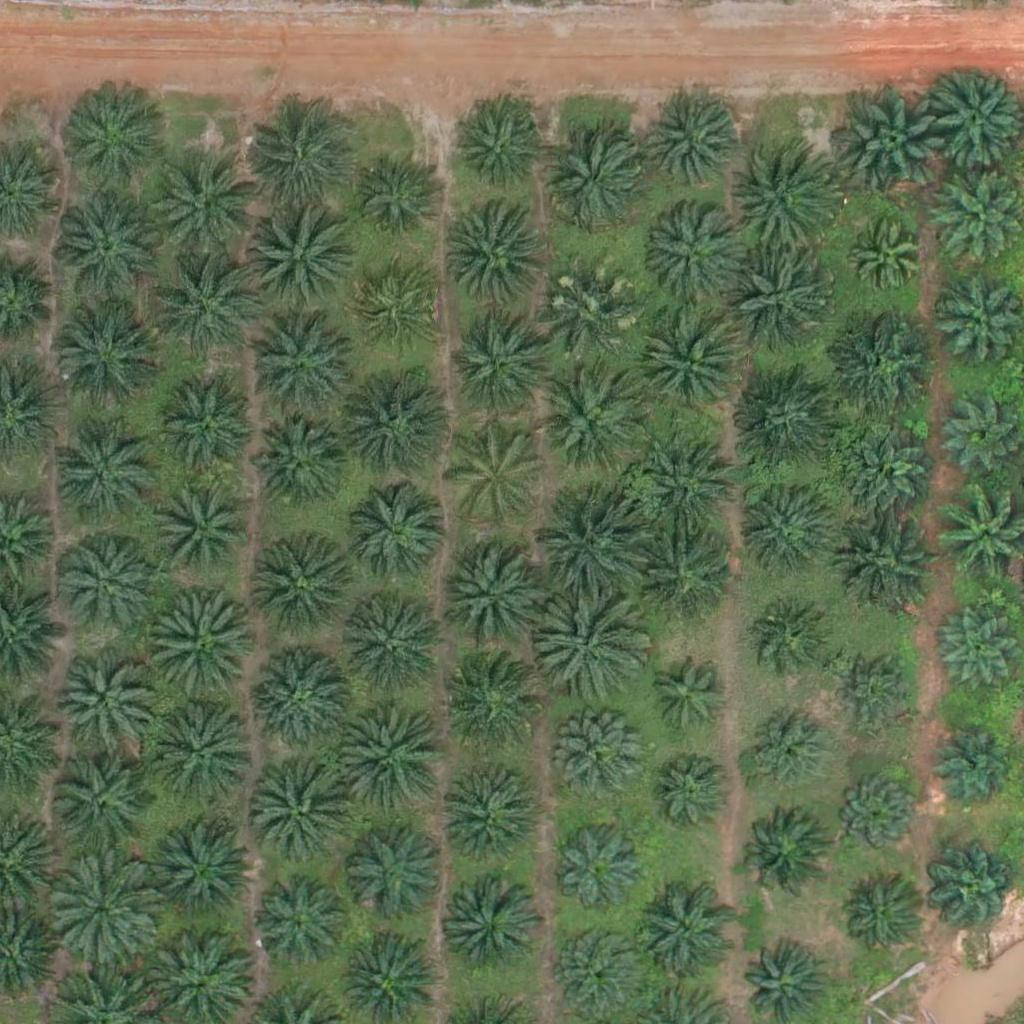Kelapa_Sawit: (45, 296, 158, 410), (44, 191, 157, 304), (144, 591, 257, 704), (146, 146, 259, 259), (240, 202, 353, 315), (336, 698, 449, 811), (822, 309, 935, 422), (52, 408, 164, 522), (342, 588, 454, 702), (535, 587, 647, 701), (535, 495, 647, 609), (840, 89, 952, 203), (58, 82, 170, 195), (45, 852, 157, 965), (146, 695, 258, 808), (149, 250, 261, 363), (239, 109, 351, 222), (346, 370, 458, 483), (445, 537, 557, 650), (729, 140, 841, 253), (726, 248, 838, 361), (734, 361, 846, 474), (57, 533, 157, 634), (54, 649, 154, 750), (152, 814, 252, 915), (154, 376, 254, 477), (153, 480, 253, 581), (250, 315, 350, 416), (247, 537, 347, 638), (253, 645, 353, 746), (252, 770, 352, 871), (345, 822, 445, 923), (352, 481, 452, 582), (446, 203, 546, 304), (443, 427, 543, 528), (438, 657, 538, 758), (442, 772, 542, 873), (443, 880, 543, 981), (543, 127, 643, 228), (540, 275, 640, 376), (644, 90, 744, 191), (645, 319, 745, 420), (640, 435, 740, 536), (638, 527, 738, 628), (736, 478, 836, 579), (47, 756, 147, 856), (247, 415, 347, 515), (445, 318, 545, 418), (551, 819, 651, 919), (541, 374, 641, 474), (641, 209, 741, 309), (637, 883, 737, 983), (838, 505, 938, 605), (642, 750, 730, 839), (556, 926, 644, 1015), (748, 604, 836, 692), (354, 263, 442, 351), (459, 106, 547, 194), (935, 269, 1023, 357), (935, 610, 1023, 698), (932, 849, 1020, 937), (837, 876, 924, 964), (832, 769, 919, 857), (832, 648, 919, 736), (639, 657, 726, 745), (742, 708, 829, 796), (738, 808, 825, 896), (255, 879, 342, 967), (352, 155, 439, 243), (558, 720, 645, 808), (843, 215, 930, 303), (844, 432, 931, 520), (930, 716, 1017, 804)
